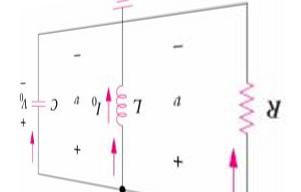resistor: (234, 71, 258, 138)
